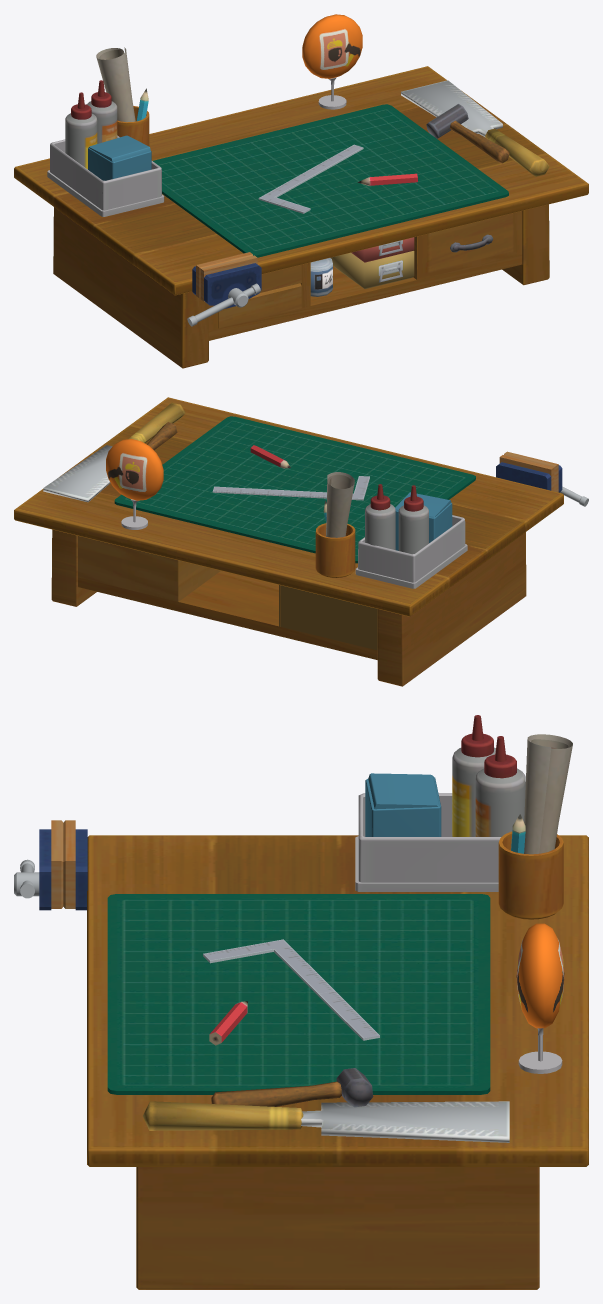
Rendered from Workbench.glb.
3 renders of one model, top to bottom at view 1: azimuth 30°, elevation 25°; view 2: azimuth 150°, elevation 25°; view 3: azimuth 270°, elevation 25°, orthographic. The views are drawn at different scales.
Parts seen in each view (by area): view 1: Workbench; view 2: Workbench; view 3: Workbench.
Boxes of the visible parts, <box> form: Workbench: <box>14,14,588,368</box>; Workbench: <box>14,397,588,686</box>; Workbench: <box>14,715,588,1289</box>.
Size of the model in its own units: 3.13 by 1.47 by 2.39.
Materials: 2 (2 with a texture image).
